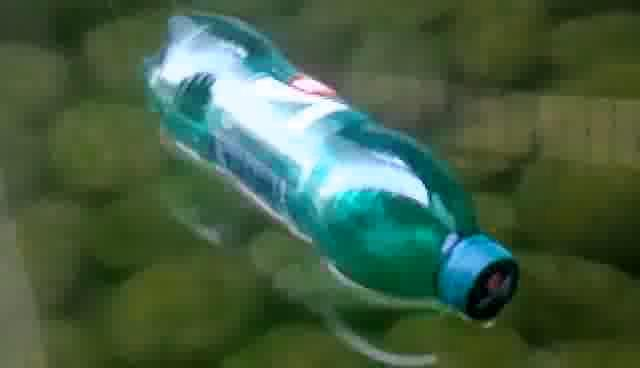Plastic: (132, 6, 524, 337)
